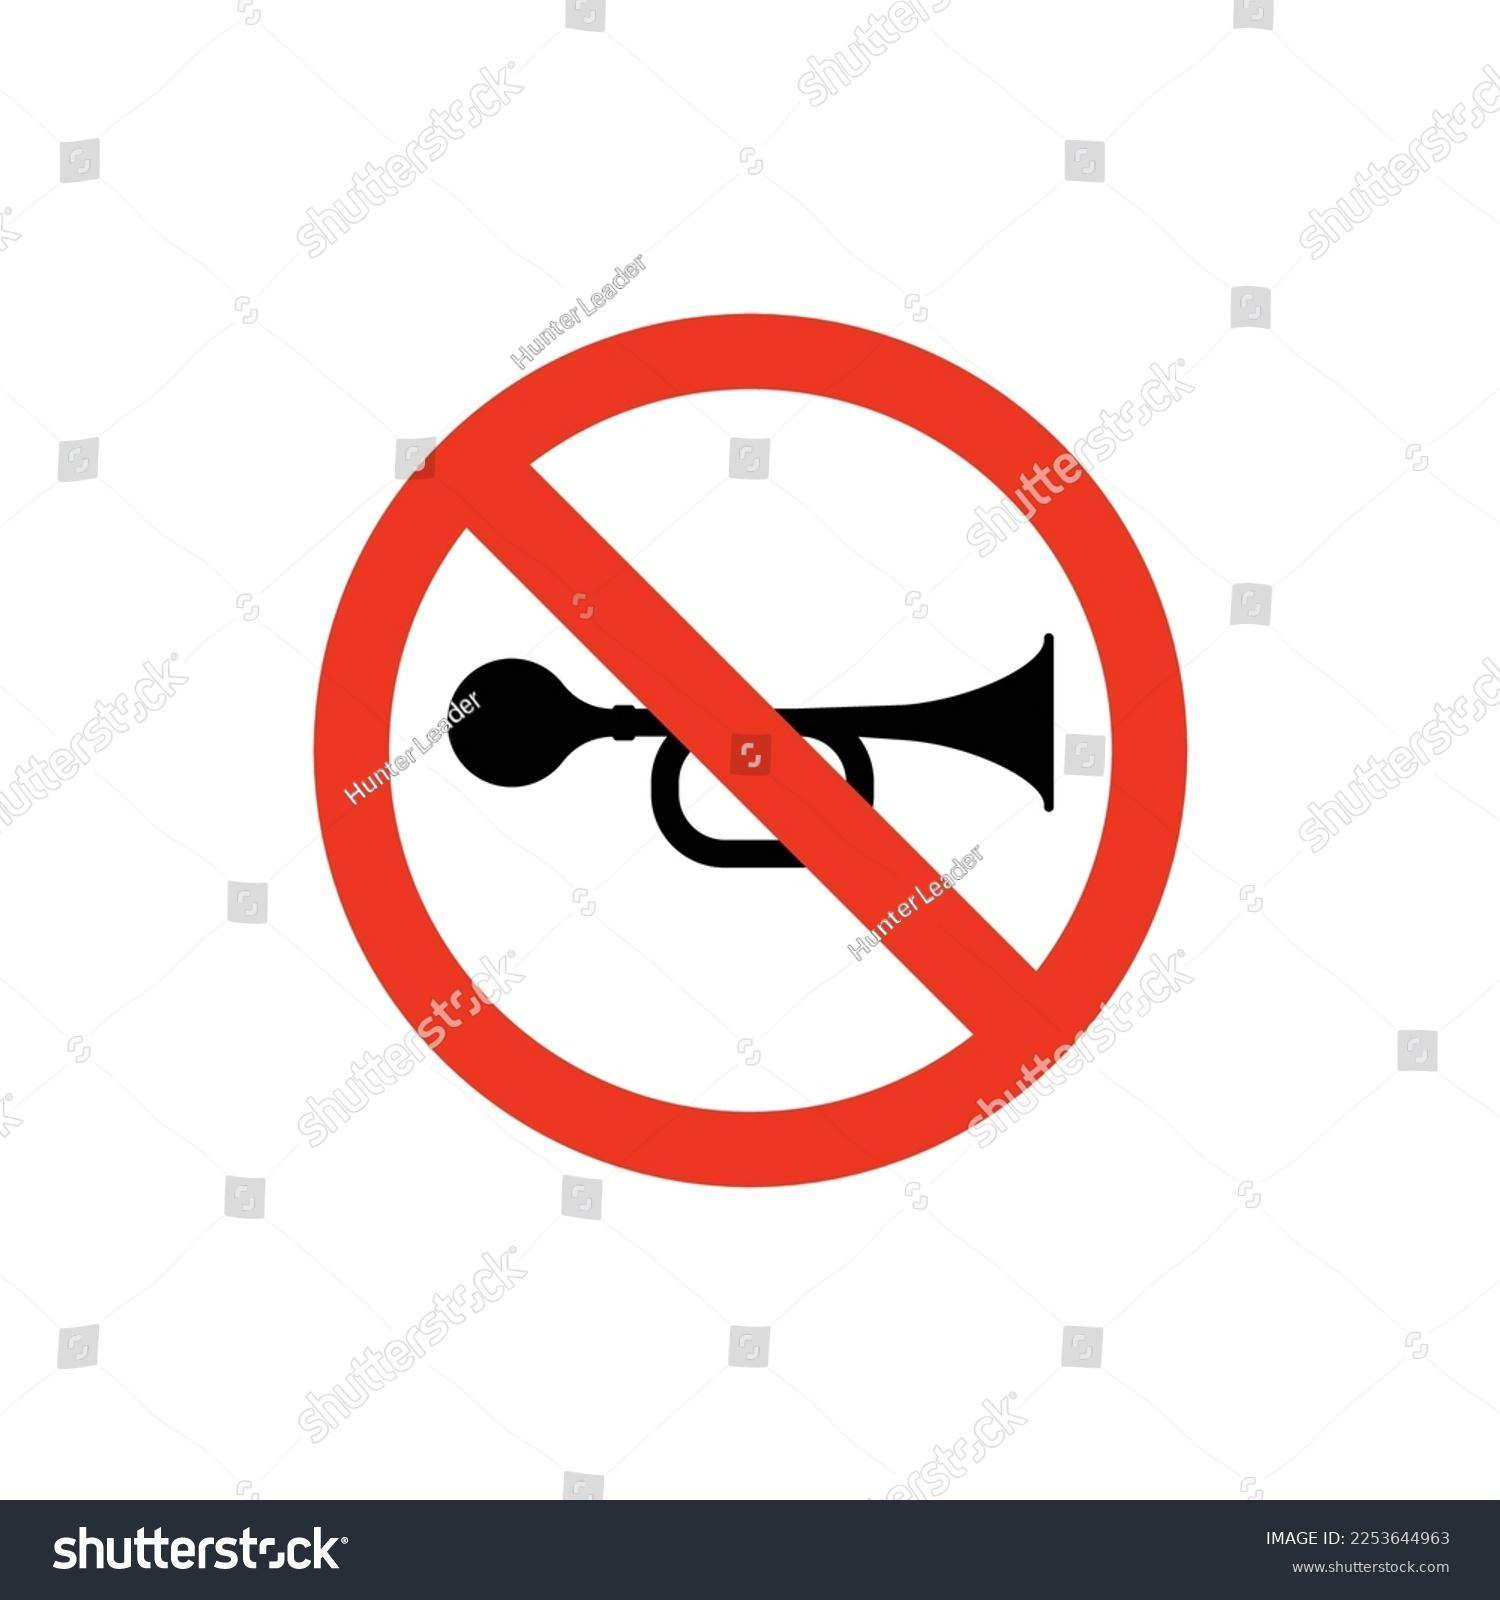Horn Prohibited: (251, 187, 1266, 1353)
